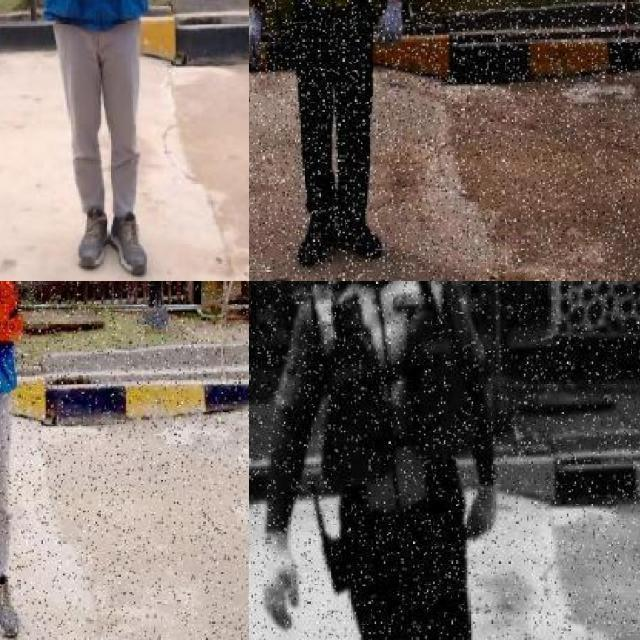apron: (256, 529, 306, 637), (461, 472, 504, 548), (374, 0, 408, 46), (249, 5, 263, 70)
